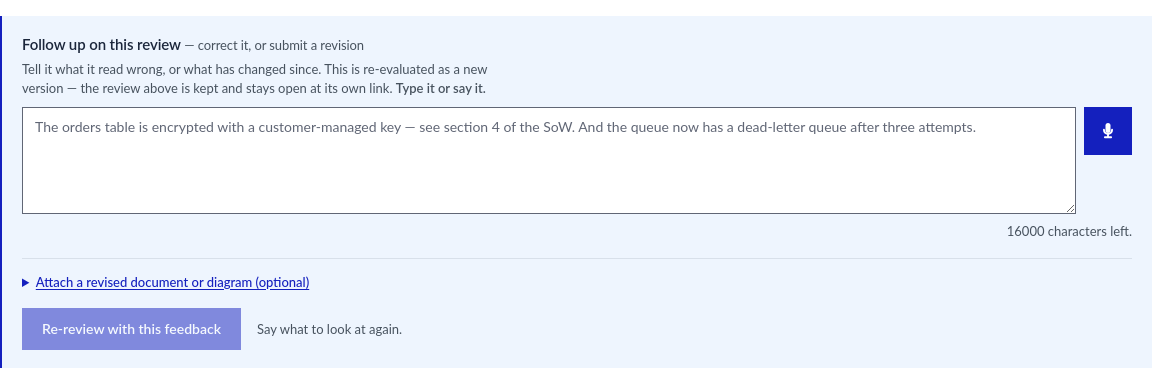
it: FeedbackBox — dictation › stays editable after dictating, so a misheard word can be fixed
Later steps or results of the test are not shown.
Click the button named "Speak your feedback": (1108,130) top-left (1084, 106), bottom-right (1132, 154)
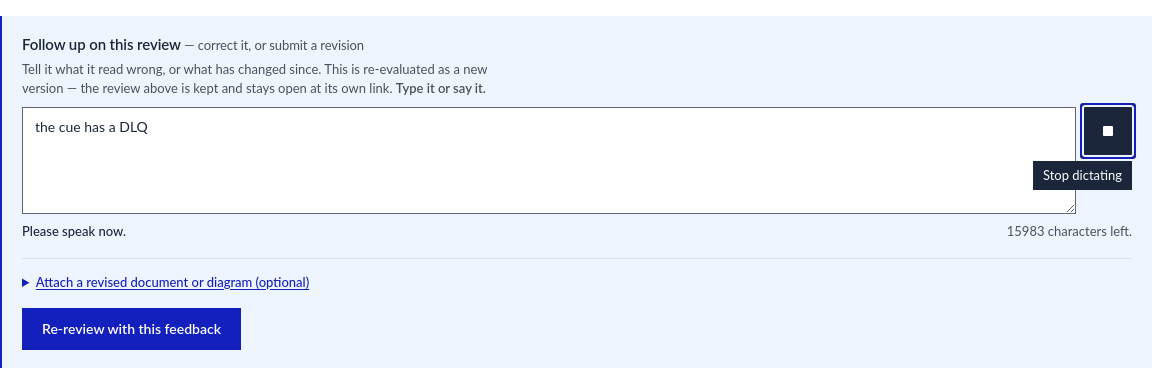
Now the text box named "What this review got wrong, or what has changed" holds "the cue has a DLQ", box top-left (22, 106), bottom-right (1076, 214)
